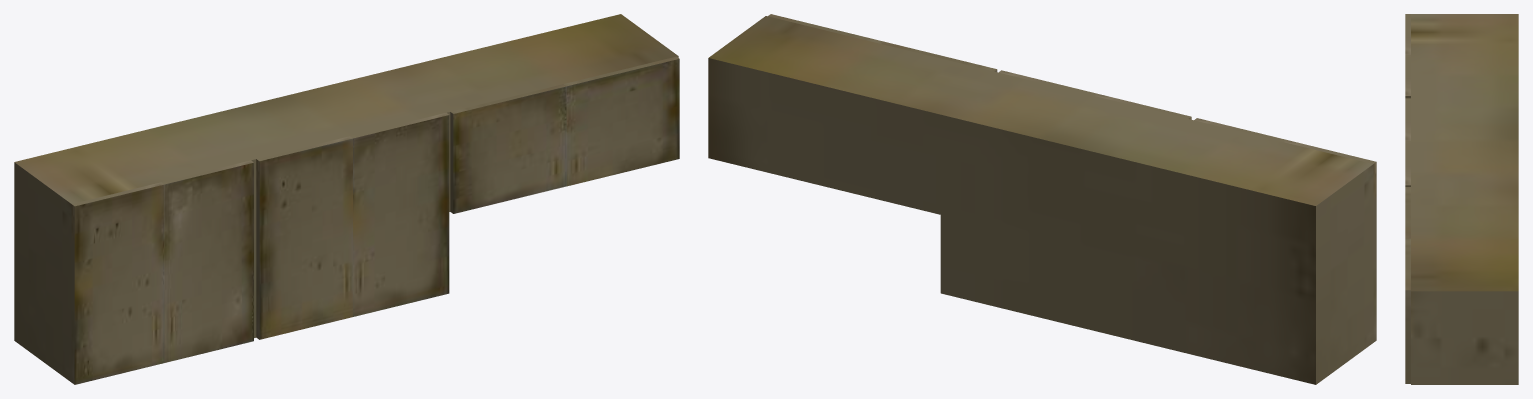
File: roach_pantry.FBX
The picture shows the model from 3 angles, left to right: view 1: azimuth 30°, elevation 25°; view 2: azimuth 150°, elevation 25°; view 3: azimuth 270°, elevation 25°; orthographic projection. The views are drawn at different scales.
Parts seen in each view (by area): view 1: overhead_pantry, overhead_cupboard_2, overhead_cupboard_1, overhead_stove_cupboard_1, overhead_stove_cupboard_2, over_fridge_cupboard_1, over_fridge_cupboard_2; view 2: overhead_pantry, overhead_stove_cupboard_1; view 3: overhead_pantry, over_fridge_cupboard_2, over_fridge_cupboard_1, overhead_cupboard_2, overhead_stove_cupboard_2, overhead_cupboard_1, overhead_stove_cupboard_1.
Boxes of the visible parts, x1,y1,x2,y2 form: overhead_pantry: (14,14,678,382); overhead_cupboard_2: (350,112,449,316); overhead_cupboard_1: (256,136,352,339); overhead_stove_cupboard_1: (71,182,164,384); overhead_stove_cupboard_2: (161,160,253,362); over_fridge_cupboard_1: (450,84,566,213); over_fridge_cupboard_2: (564,56,679,186); overhead_pantry: (708,16,1373,384); overhead_stove_cupboard_1: (1284,140,1376,342); overhead_pantry: (1411,14,1518,384); over_fridge_cupboard_2: (1405,238,1410,383); over_fridge_cupboard_1: (1405,187,1410,238); overhead_cupboard_2: (1405,141,1410,186); overhead_stove_cupboard_2: (1405,55,1410,98); overhead_cupboard_1: (1405,98,1410,140); overhead_stove_cupboard_1: (1405,14,1410,54).
Bounding box in the file's own units: 156 × 43.84 × 26.96.
1 material, 1 textured.
